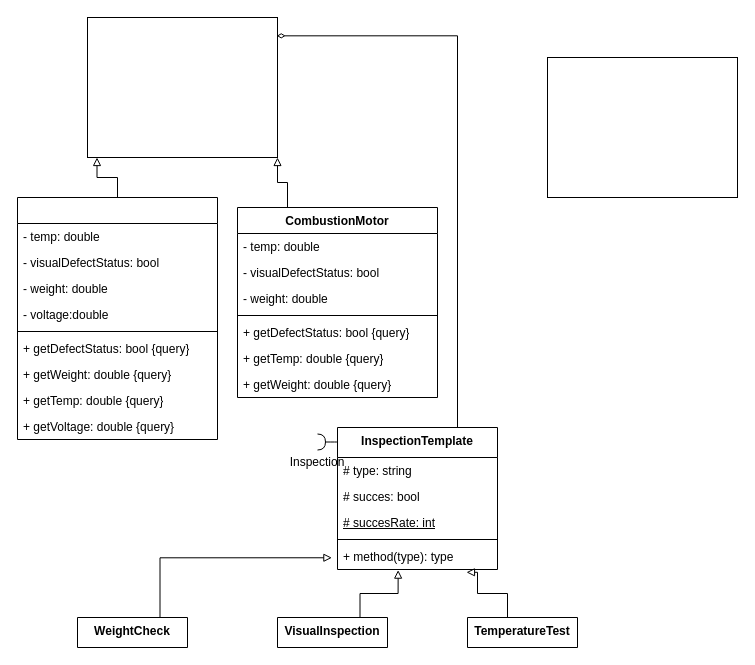
The diagram is 755 pixels wide and 665 high, and some of its shapes have lost their labels. The shapes that lost their labels are listed below. From the top down, each one's box as (x1, y1, x2, y2) in pixels, then its label:
(86, 16, 278, 158): <<abstract>> Product # ID: int # name: string + createReport( ): void {abstract}
(546, 56, 738, 198): <<Interface>> Inspection + Inspect( ): void + printInspection( ): void
(16, 196, 218, 440): electric engine
